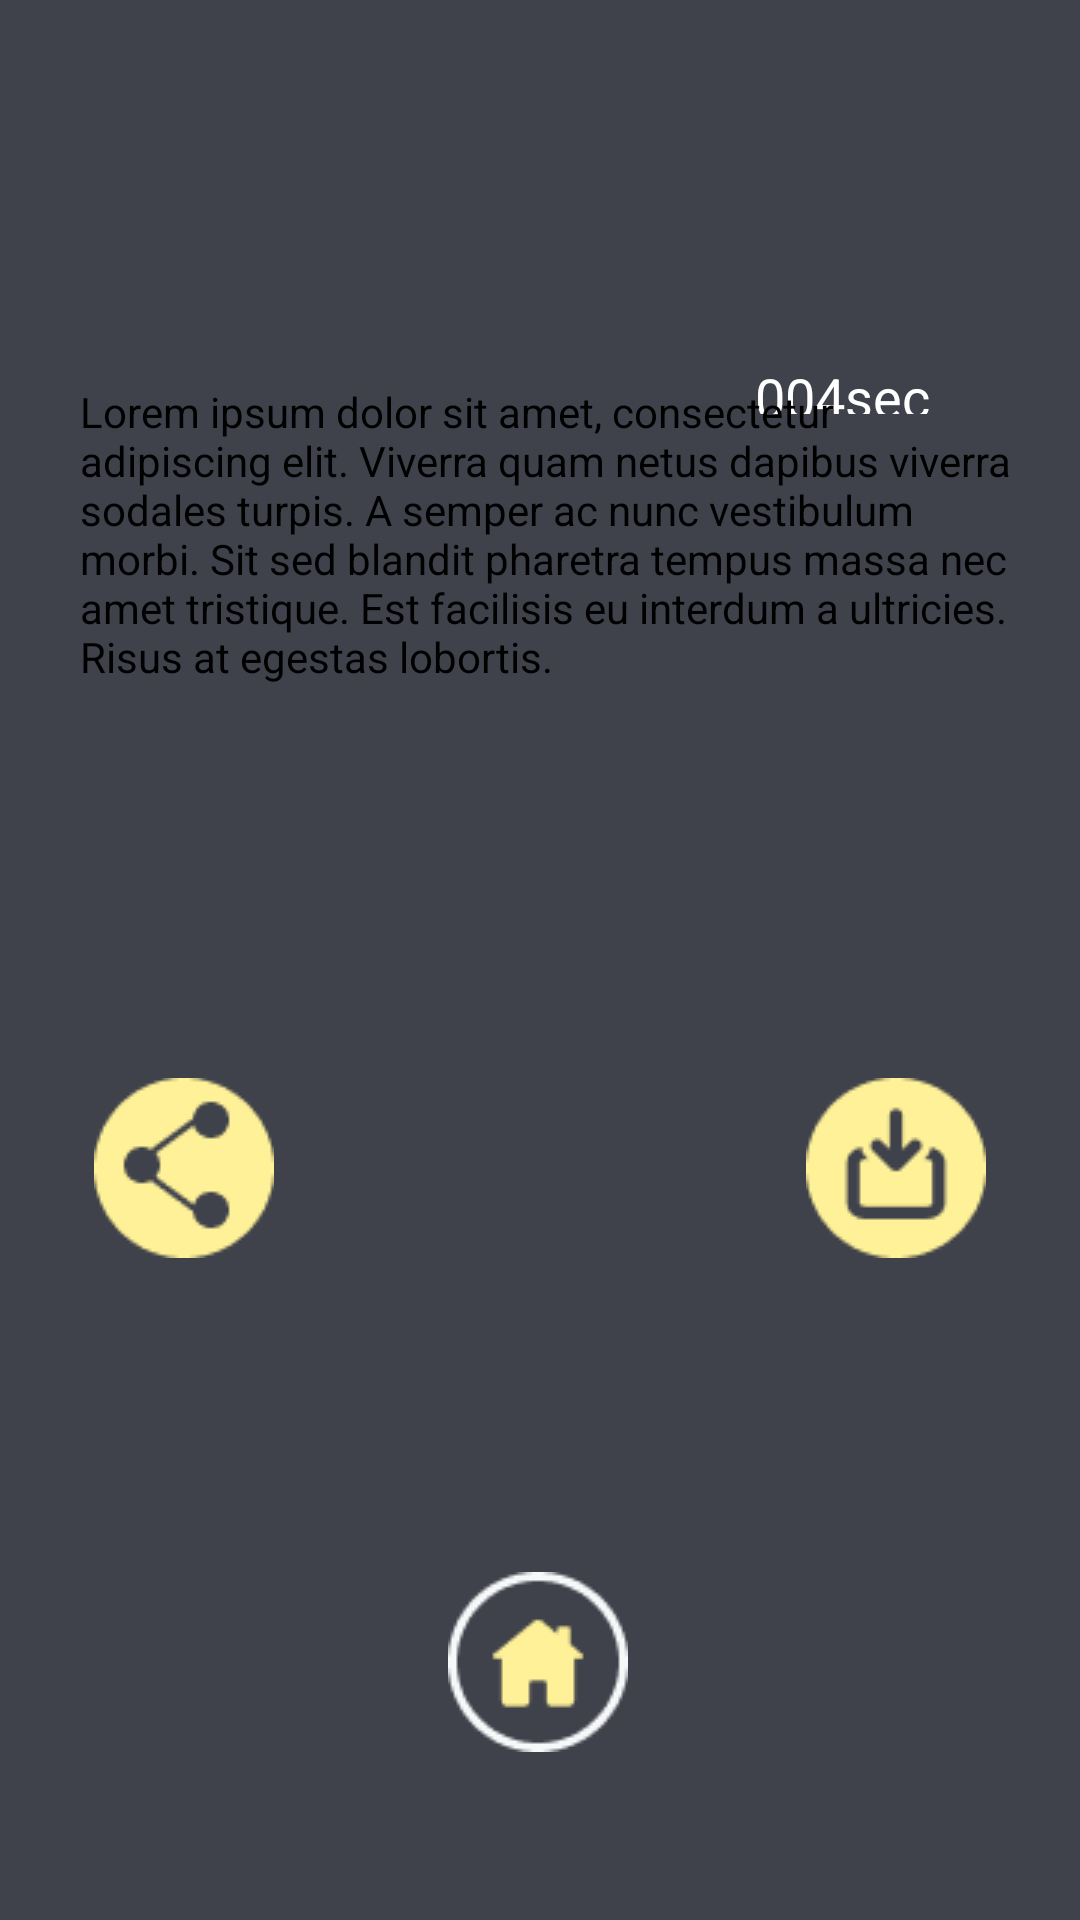

Screen size 1080*1920. Icon name, then its box in pixels as [left=x1, top=y1, right=x2, bottom=y2]:
download: [left=806, top=1078, right=986, bottom=1258]
home: [left=448, top=1572, right=628, bottom=1752]
share: [left=94, top=1078, right=274, bottom=1258]
